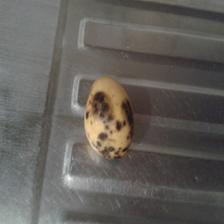Mango Semirotten: (81, 72, 138, 162)
